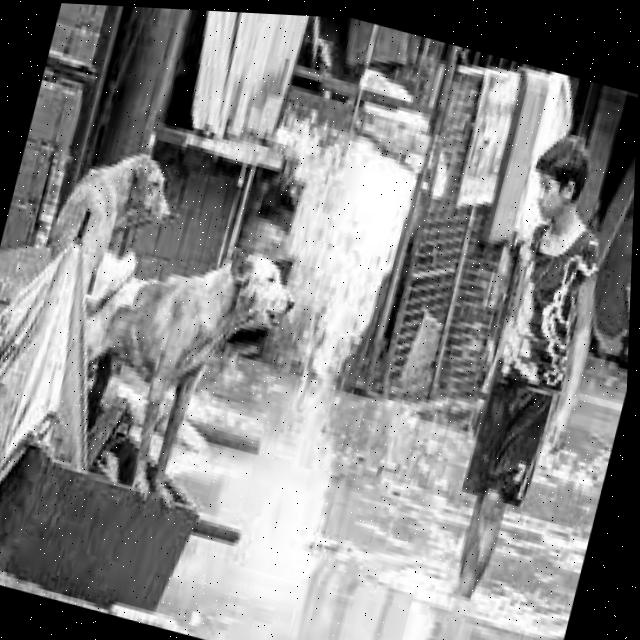civilian: (412, 115, 637, 619)
dog: (70, 212, 305, 524), (38, 129, 193, 300)
